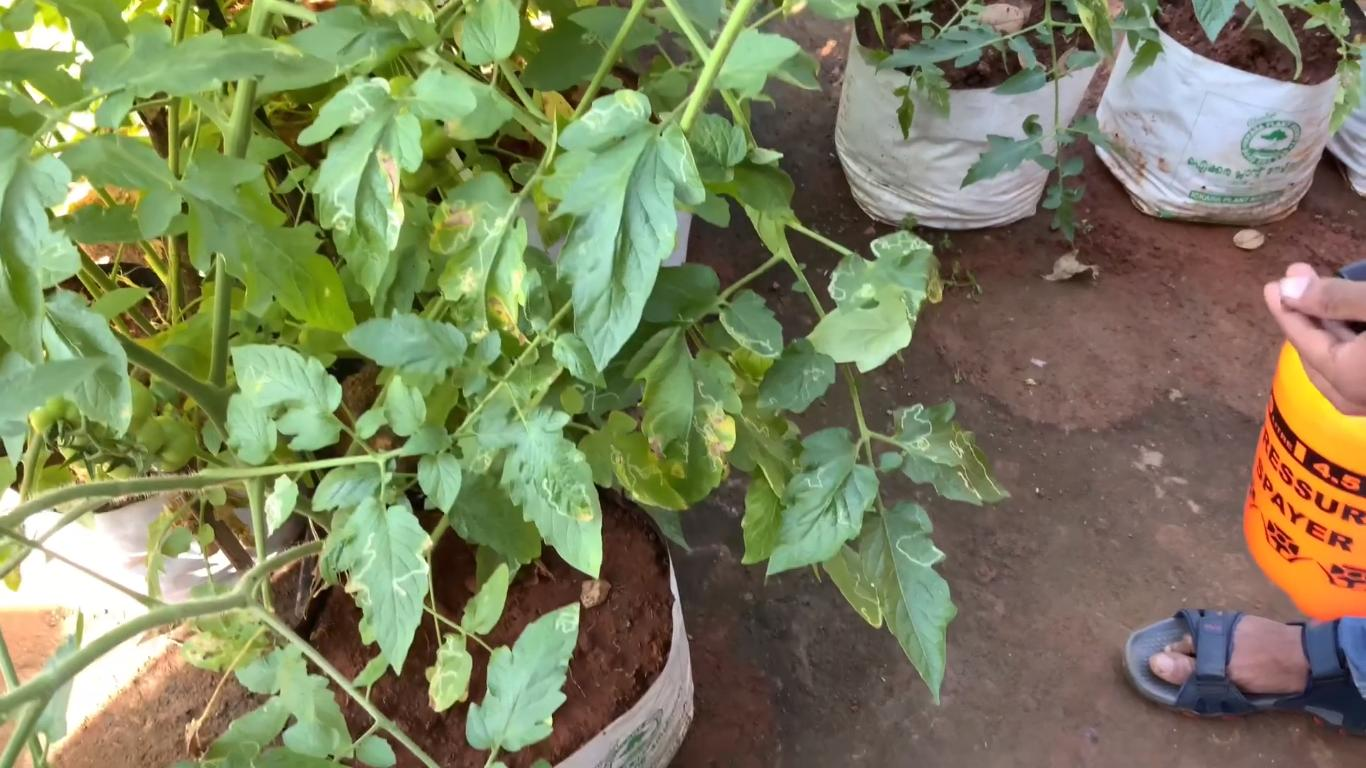Leaf_Miner: (540, 89, 708, 375), (299, 75, 424, 305), (621, 325, 743, 505), (859, 501, 959, 708), (337, 496, 434, 678), (465, 601, 580, 752), (767, 426, 878, 581), (430, 171, 527, 345), (229, 343, 345, 451), (893, 399, 1011, 505), (830, 228, 945, 335), (497, 405, 598, 526), (578, 409, 691, 513), (753, 336, 837, 414), (819, 543, 885, 629), (719, 288, 784, 362), (428, 631, 472, 713)
